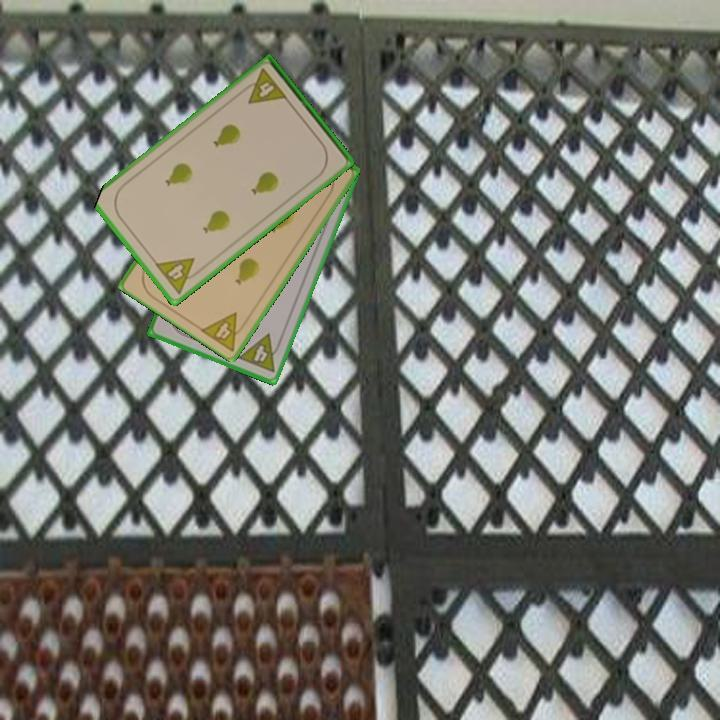4p: (197, 309, 252, 354), (151, 254, 206, 297), (234, 330, 285, 376), (237, 65, 290, 109)
